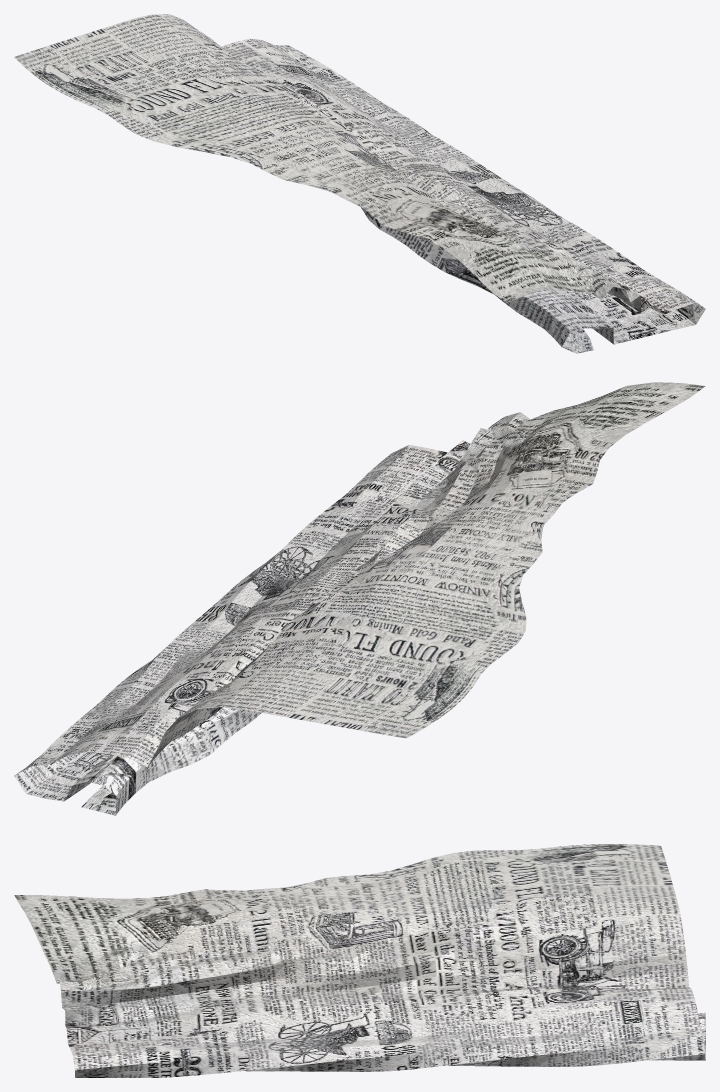
The model's file is NewspaperB_1.fbx.
3 views of the same model, one above another, from view 1: azimuth 30°, elevation 25°; view 2: azimuth 150°, elevation 25°; view 3: azimuth 270°, elevation 25° (orthographic). The views are drawn at different scales.
Parts seen in each view (by area): view 1: NEWS_pPlane10; view 2: NEWS_pPlane10; view 3: NEWS_pPlane10.
Part boxes in pixels (<box>): NEWS_pPlane10: <box>14,14,705,353</box>; NEWS_pPlane10: <box>14,382,705,815</box>; NEWS_pPlane10: <box>14,844,705,1077</box>.
Size of the model in its own units: 6.06 by 1.67 by 11.85.
